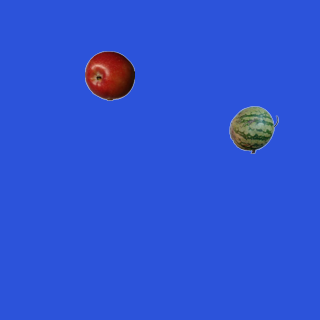Apple Braeburn: (84, 50, 134, 100)
Watermelon: (228, 104, 278, 154)
